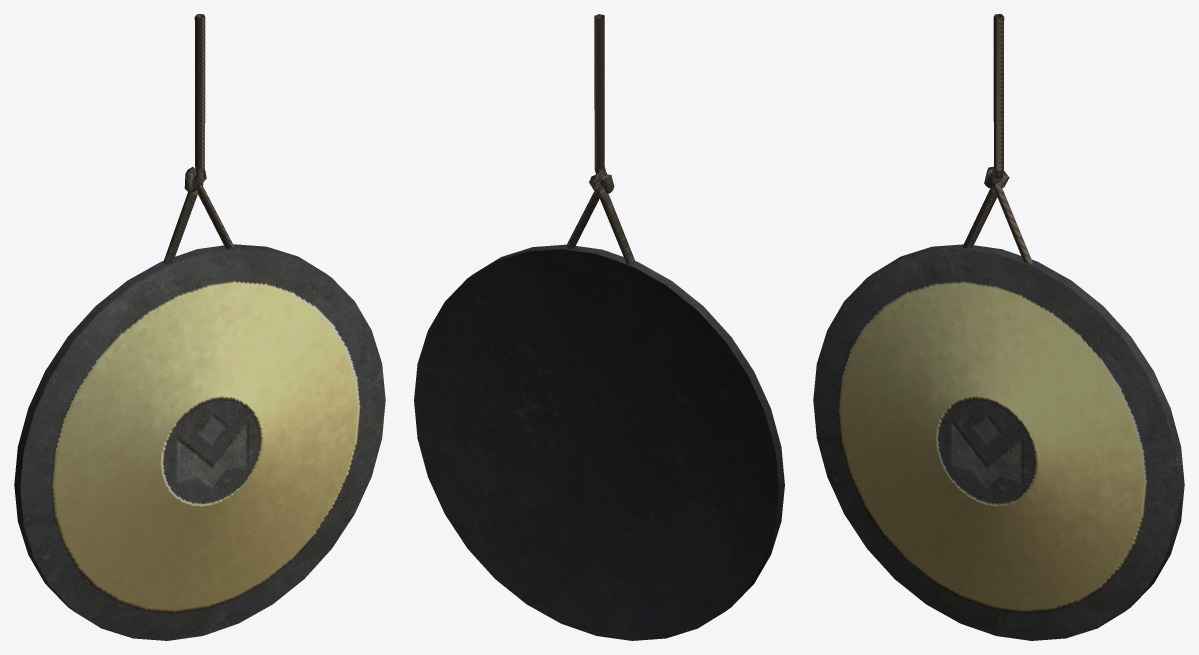
File: Gong01_Art.glb
3 renders of one model, left to right at view 1: azimuth 30°, elevation 25°; view 2: azimuth 150°, elevation 25°; view 3: azimuth 330°, elevation 25°, orthographic.
Parts seen in each view (by area): view 1: Gong01_Art; view 2: Gong01_Art; view 3: Gong01_Art.
Boxes of the visible parts, x1,y1,x2,y2 form: Gong01_Art: (14, 14, 385, 640); Gong01_Art: (414, 14, 784, 640); Gong01_Art: (813, 14, 1184, 640).
Size of the model in its own units: 2 by 3.23 by 0.1662.
1 material, 1 textured.
